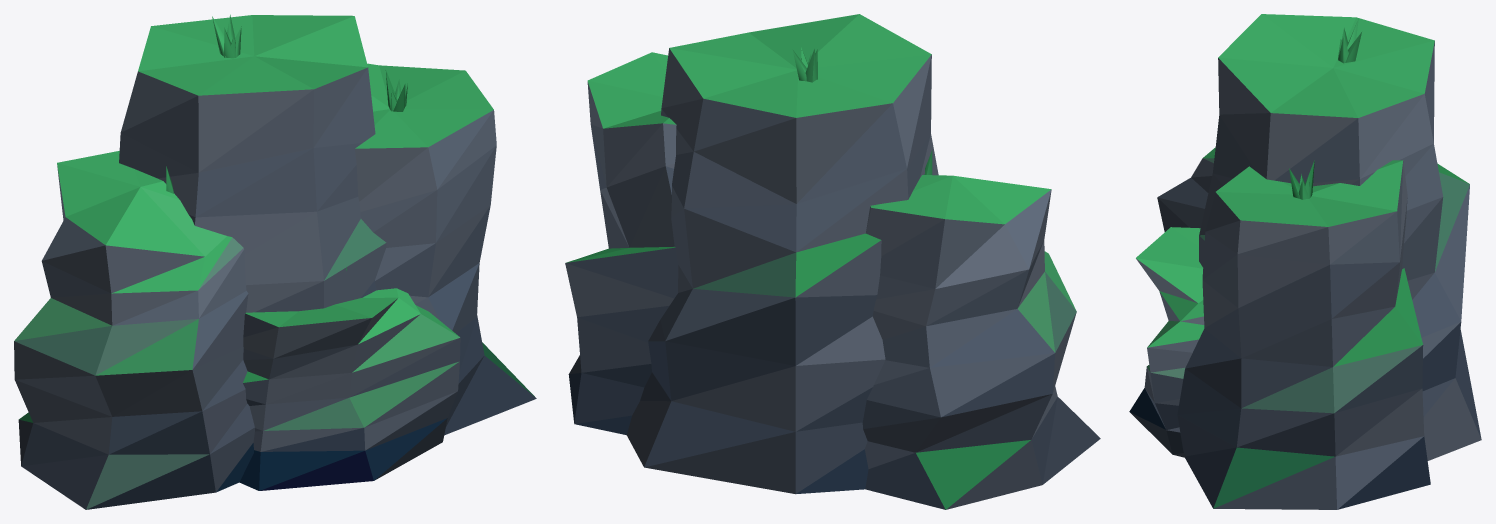
The model's file is batu_cliff_granite_54321.glb.
3 renders of one model, left to right at view 1: azimuth 30°, elevation 25°; view 2: azimuth 150°, elevation 25°; view 3: azimuth 270°, elevation 25°, orthographic. The views are drawn at different scales.
Visible parts, largest first — view 1: Tebing_Sungai_Curam; view 2: Tebing_Sungai_Curam; view 3: Tebing_Sungai_Curam.
Boxes of the visible parts, box(x1,y1,x2,y2) form: Tebing_Sungai_Curam: box(14, 14, 536, 509); Tebing_Sungai_Curam: box(565, 14, 1100, 509); Tebing_Sungai_Curam: box(1129, 14, 1481, 509).
Size of the model in its own units: 7.22 by 5.73 by 4.89.
